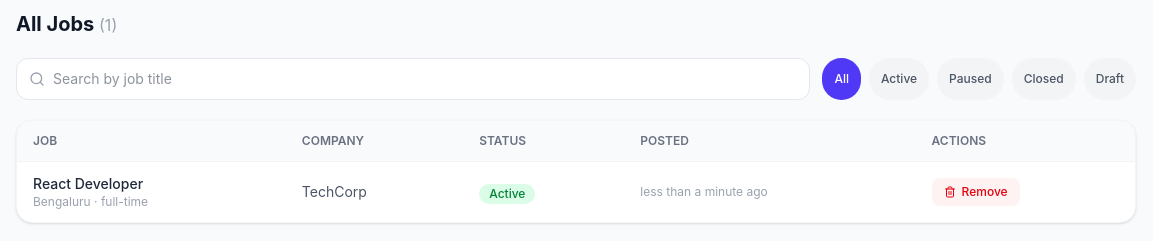
AdminJobs — delete › deletes job when confirm returns true
Check: the text "React Developer" is shown, box [33,175,143,192]
Click the button "Remove" at (976, 192), box [932,178,1020,206]
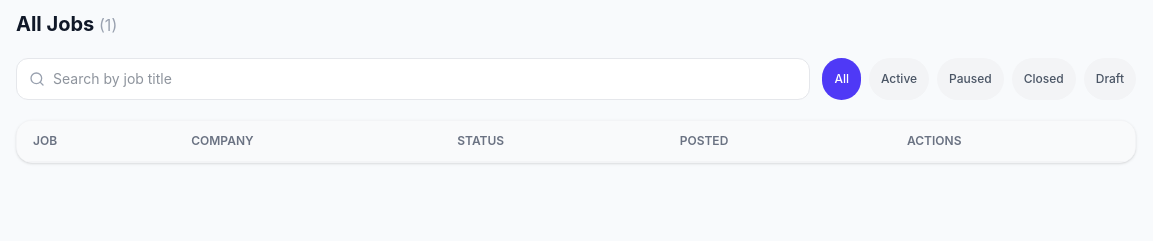
Check: the text "React Developer" is gone
